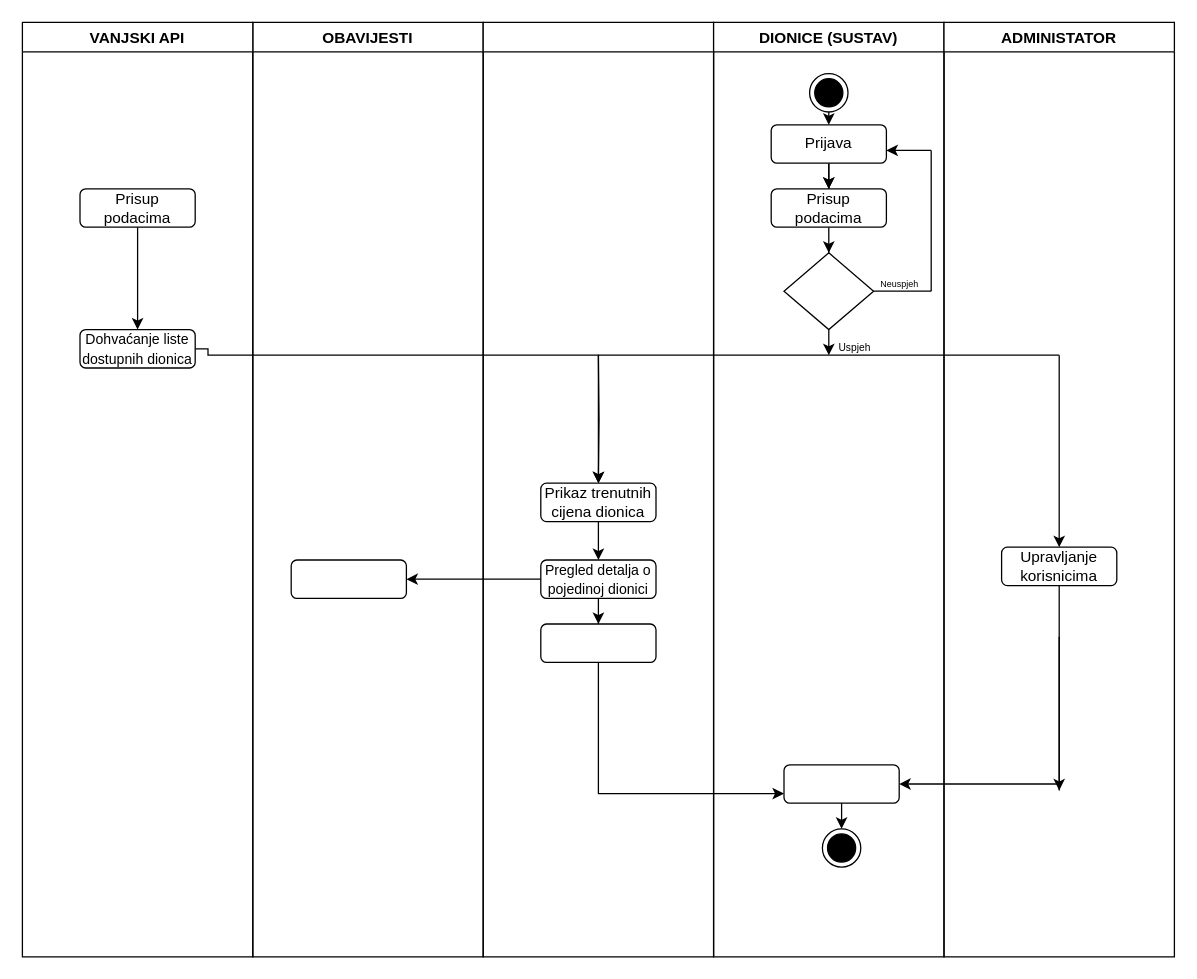
Some shapes in this 1197 by 979 pixel diagram are drawn without their labels. Here are the shapes that lost their labels. From the top down, the box of each, then its label:
(783, 252, 874, 330): Provjera
(482, 21, 714, 957): KORISNIK
(290, 559, 406, 598): Postavljanje obavijesti
(540, 623, 656, 662): Prikaz povijesti kretanja cijena
(783, 764, 899, 803): Odjava
